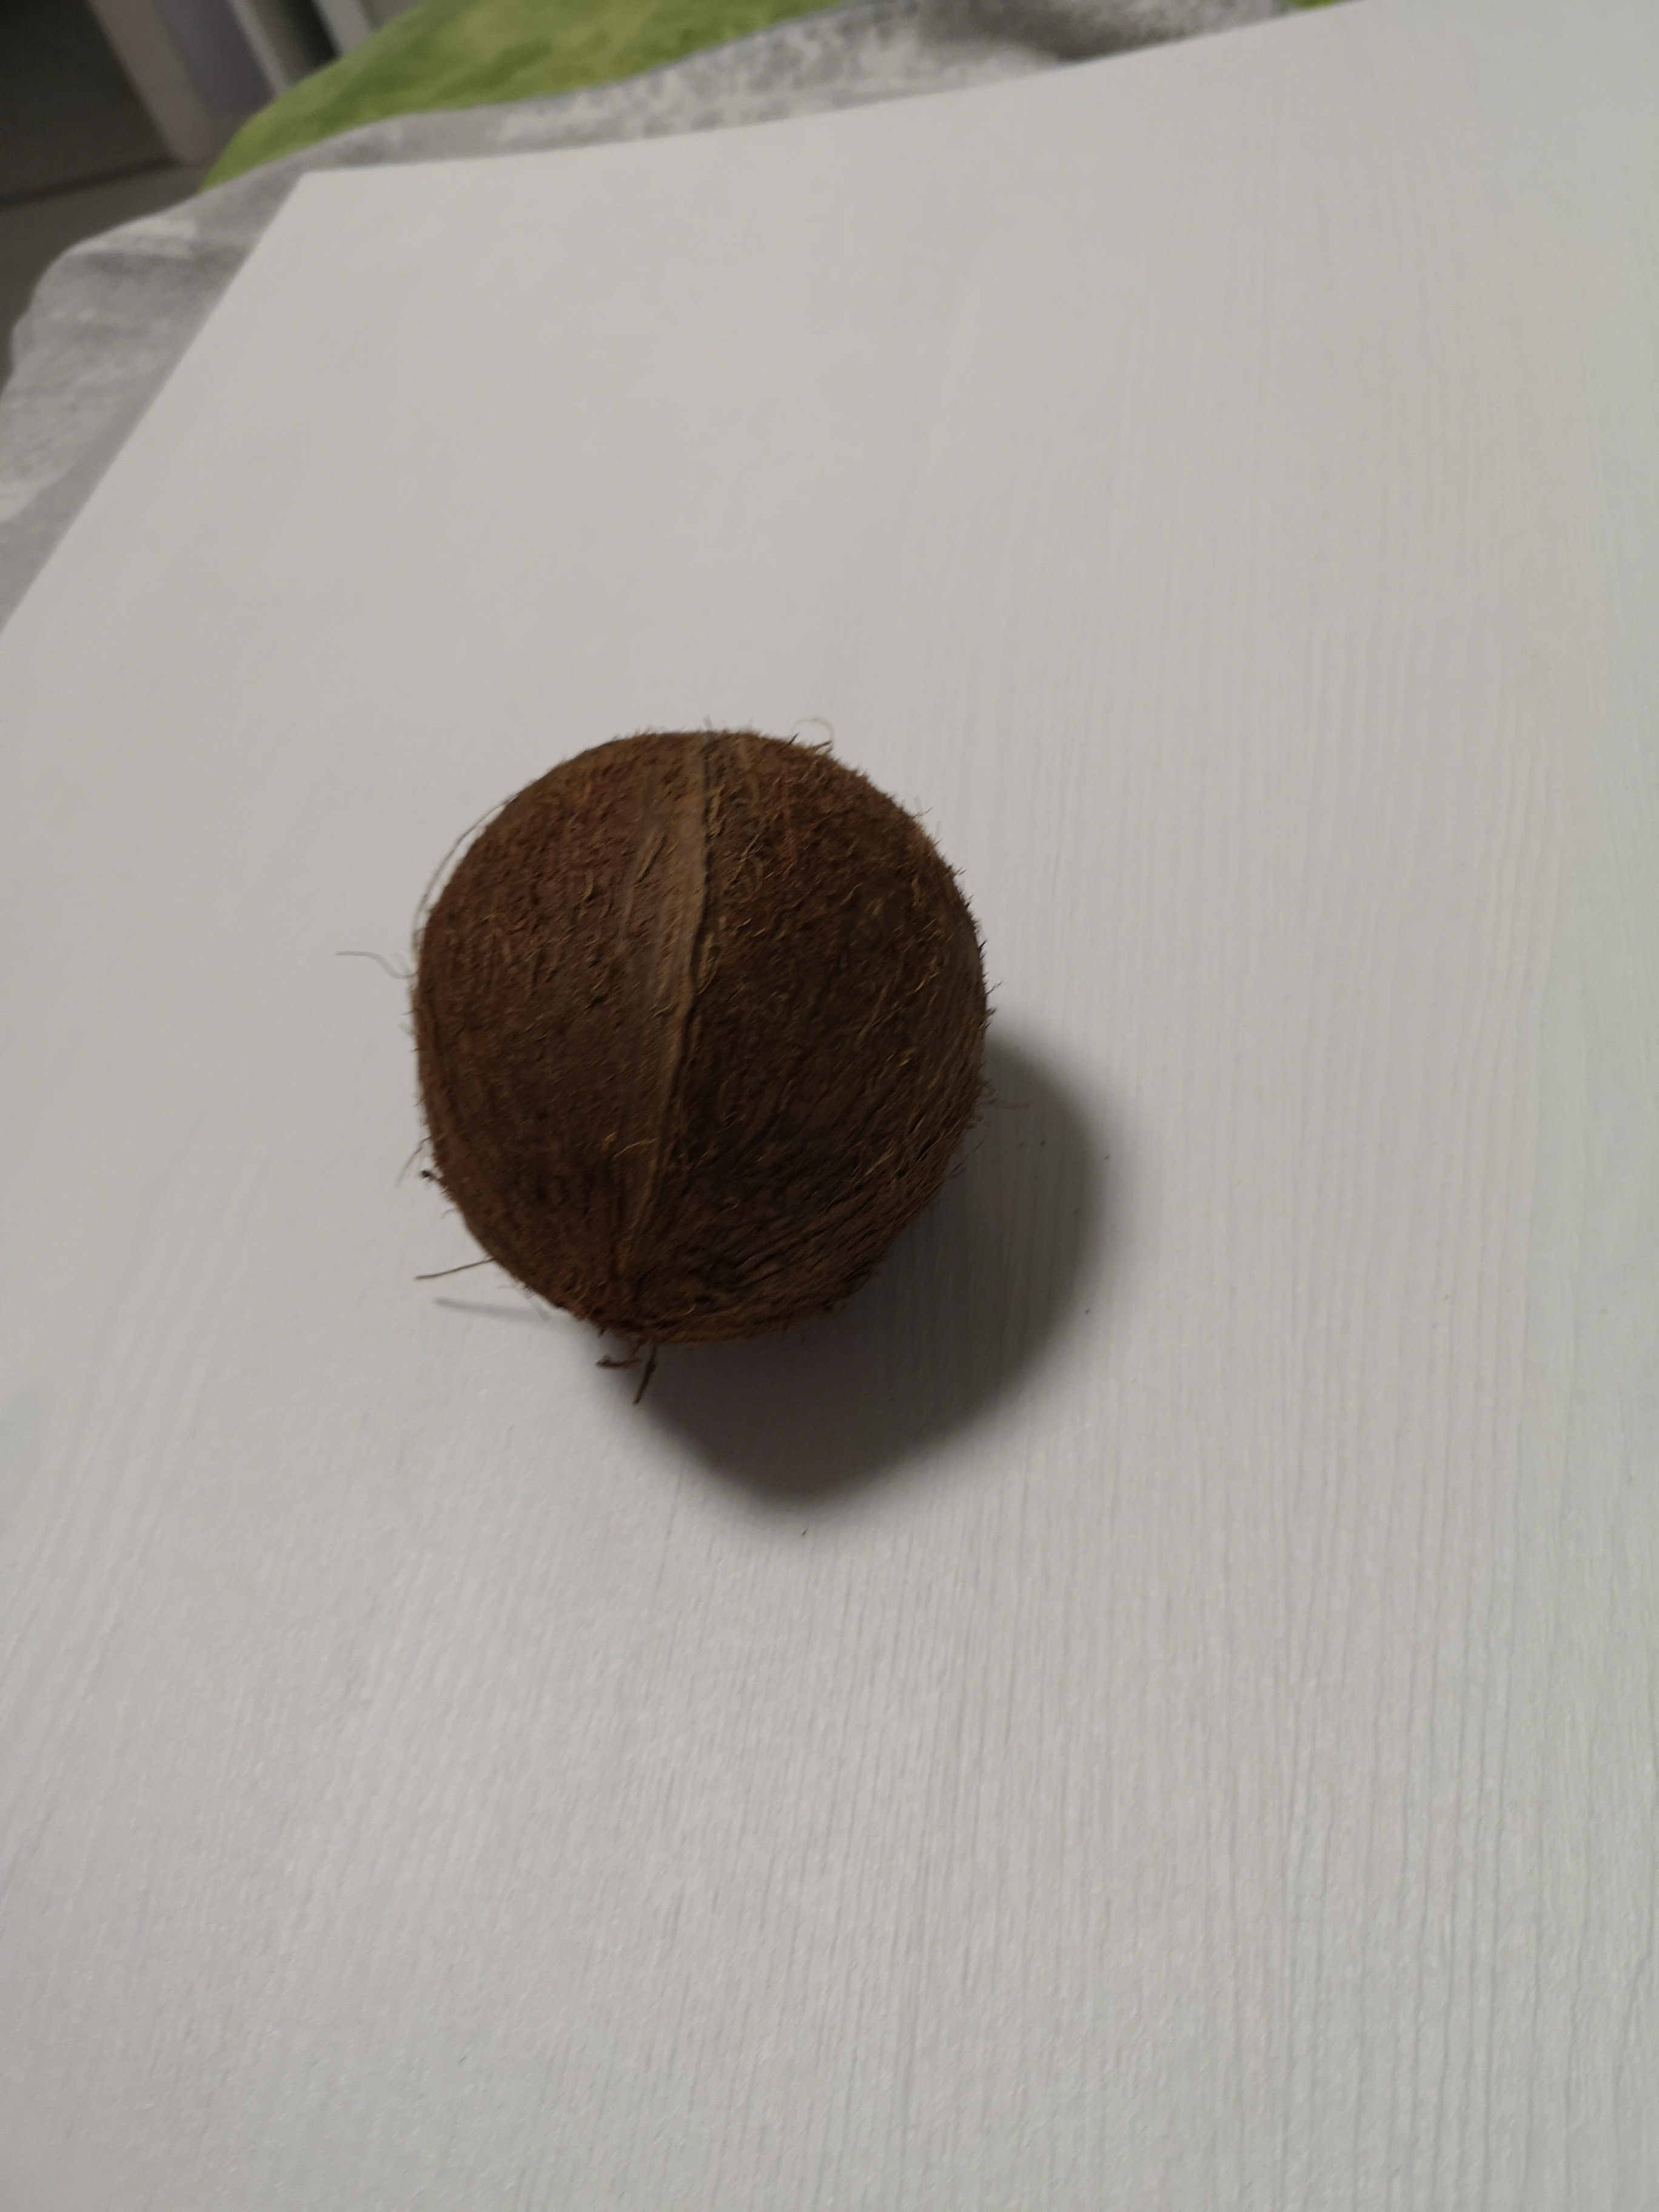coconut: (401, 718, 1000, 1352)
